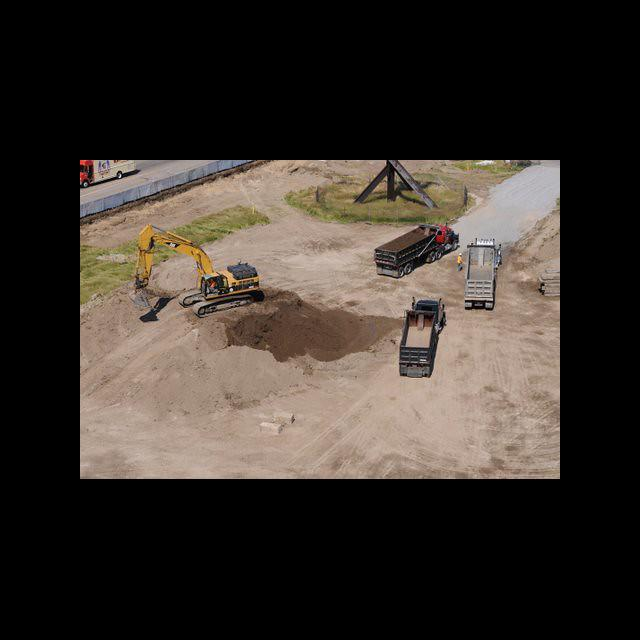Excavator: (133, 222, 265, 318)
Hardhat: (459, 253, 462, 256)
Person: (457, 253, 464, 272), (209, 279, 217, 289)
Safety Vest: (210, 282, 217, 289), (458, 257, 463, 264)
dump truck: (374, 220, 459, 280), (398, 297, 447, 379), (464, 239, 502, 311)
semi: (80, 160, 137, 188)
